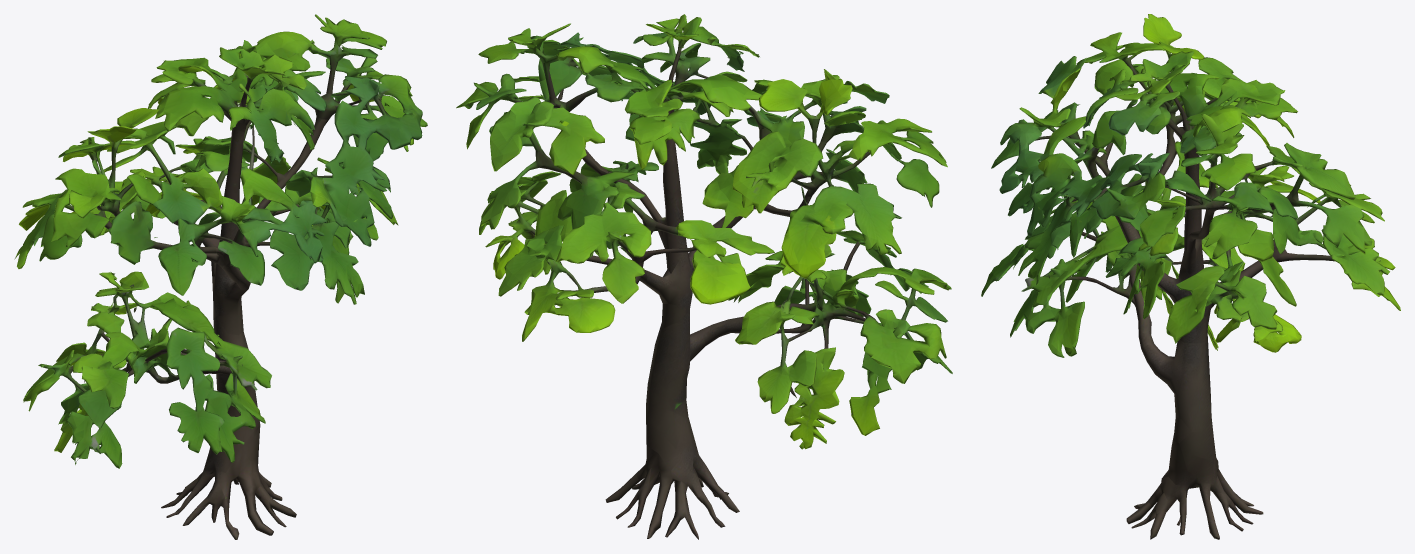
File: VEG_ArbolTropical_04_LOD0.fbx
3 views of the same model, side by side, from view 1: azimuth 30°, elevation 25°; view 2: azimuth 150°, elevation 25°; view 3: azimuth 270°, elevation 25° (orthographic). The views are drawn at different scales.
Parts seen in each view (by area): view 1: VEG_ArbolTropical_04_Mesh000; view 2: VEG_ArbolTropical_04_Mesh000; view 3: VEG_ArbolTropical_04_Mesh000.
Boxes of the visible parts, left/top/right/bottom form: VEG_ArbolTropical_04_Mesh000: left=14, top=14, right=427, bottom=539; VEG_ArbolTropical_04_Mesh000: left=456, top=14, right=952, bottom=539; VEG_ArbolTropical_04_Mesh000: left=981, top=14, right=1400, bottom=539.
Bounding box in the file's own units: 15.16 × 16 × 13.13.
